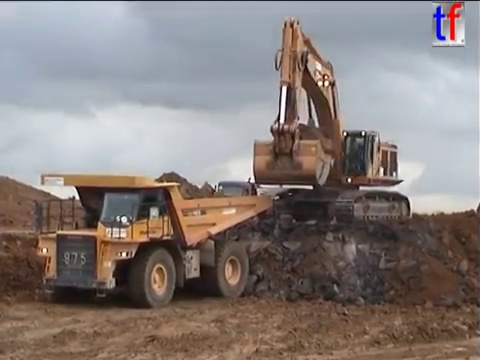excavator: (250, 14, 415, 233)
truck: (30, 171, 275, 309), (211, 176, 299, 219)
